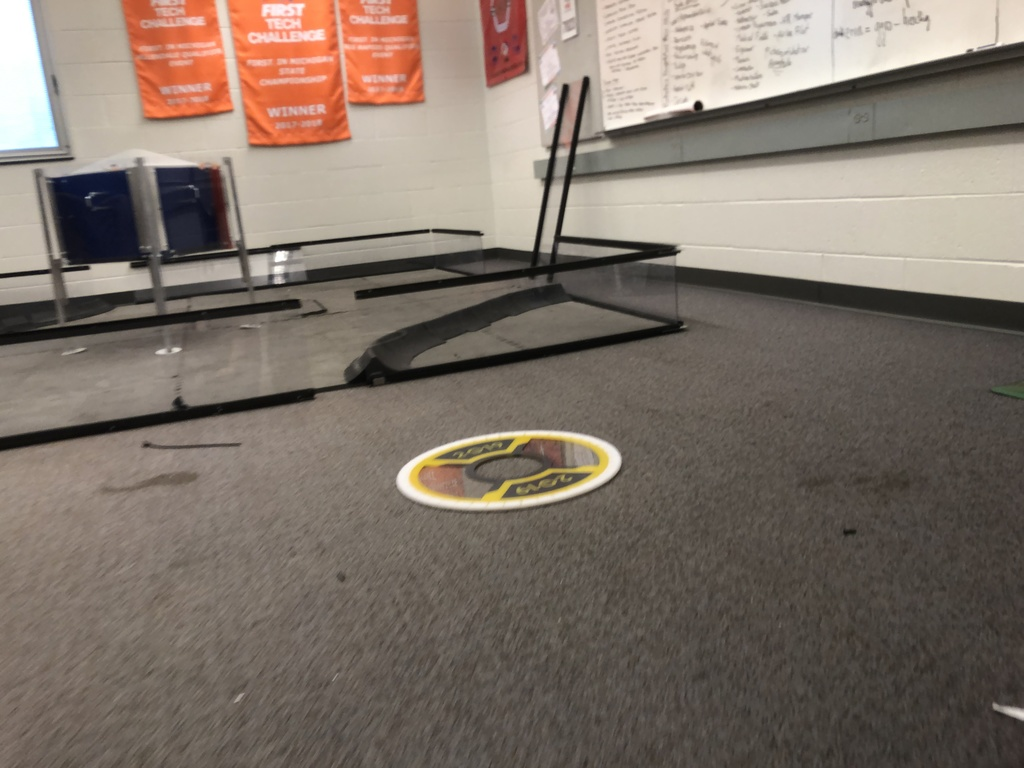hatch_panel: (381, 421, 648, 524)
